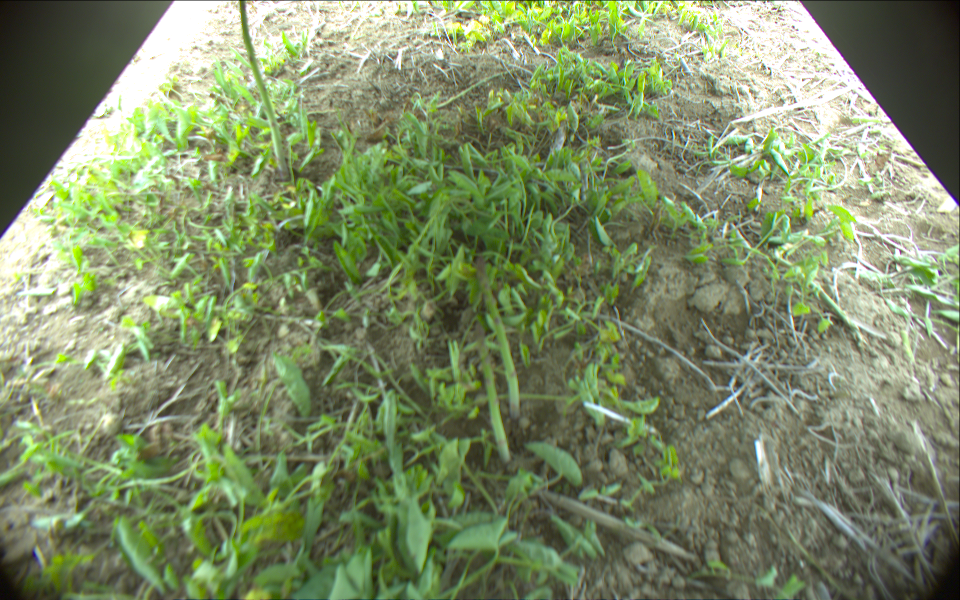aspa: (236, 1, 289, 179), (475, 249, 520, 416), (473, 320, 514, 464)
